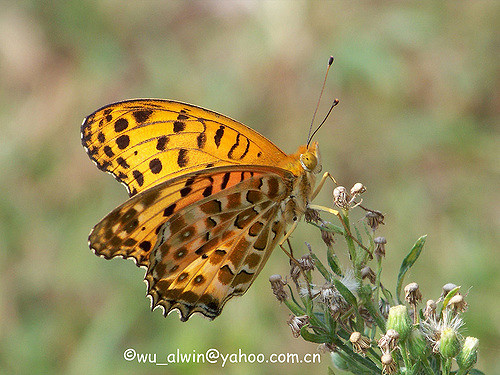Argyreus hyperbius: (73, 50, 386, 323)
butterfly: (75, 52, 388, 325)
